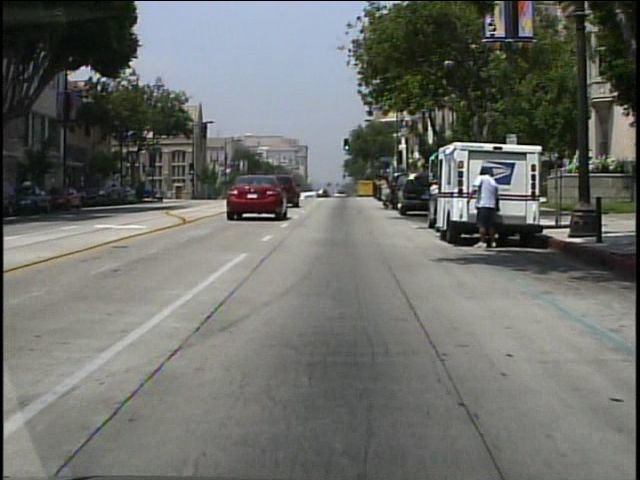person: (465, 165, 501, 249), (375, 172, 394, 211)
